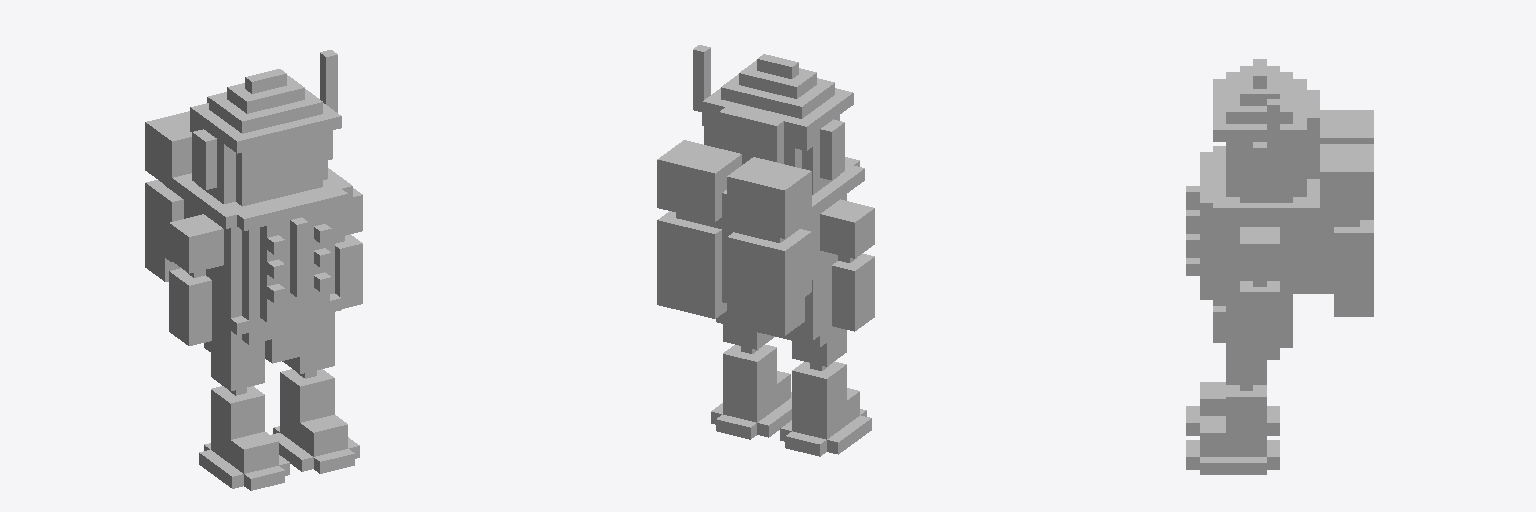
Rendered from el astronauta.obj.
The picture shows the model from 3 angles: view 1: azimuth 30°, elevation 25°; view 2: azimuth 150°, elevation 25°; view 3: azimuth 270°, elevation 25°; orthographic projection.
Parts seen in each view (by area): view 1: el astronauta; view 2: el astronauta; view 3: el astronauta.
Part boxes in pixels (left/top/right/bottom): el astronauta: left=145, top=50, right=362, bottom=490; el astronauta: left=657, top=45, right=874, bottom=456; el astronauta: left=1186, top=59, right=1373, bottom=474.
Bounding box in the file's own units: 30 × 62 × 28.